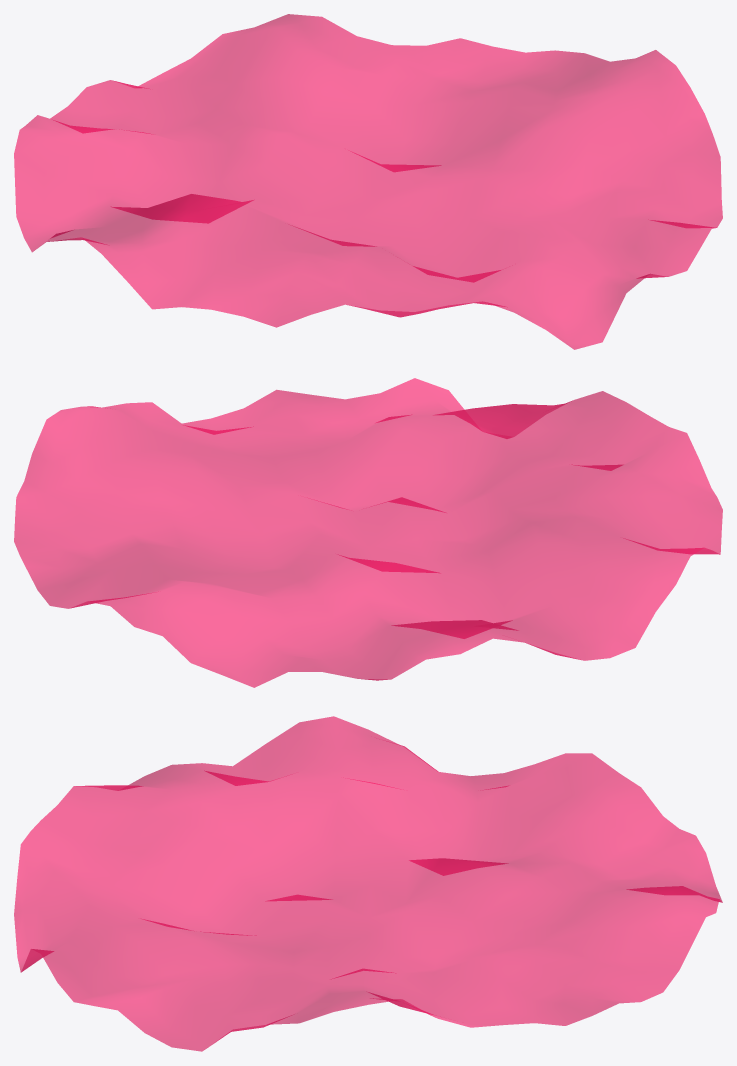
Rendered from BasicallyDoneCauldron1.fbx.
3 renders of one model, top to bottom at view 1: azimuth 30°, elevation 25°; view 2: azimuth 150°, elevation 25°; view 3: azimuth 270°, elevation 25°, orthographic.
Visible parts, largest first — view 1: Liquid; view 2: Liquid; view 3: Liquid.
Boxes of the visible parts, x1,y1,x2,y2 form: Liquid: (14, 14, 722, 349); Liquid: (14, 378, 722, 687); Liquid: (14, 716, 722, 1051).
Bounding box in the file's own units: 1.84 × 0.2644 × 1.84.
